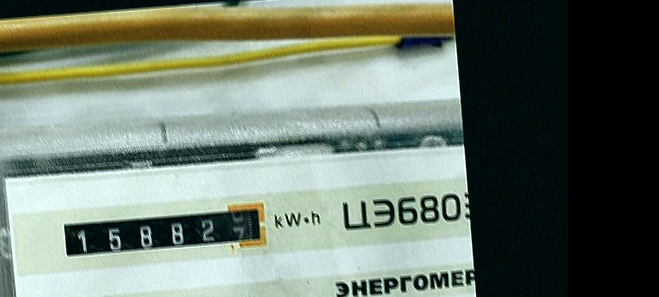1: (75, 226, 89, 253)
2: (199, 216, 217, 242)
5: (106, 224, 122, 251)
7: (230, 222, 247, 240)
8: (137, 221, 155, 248), (169, 219, 186, 245)
screen: (53, 195, 276, 269)
